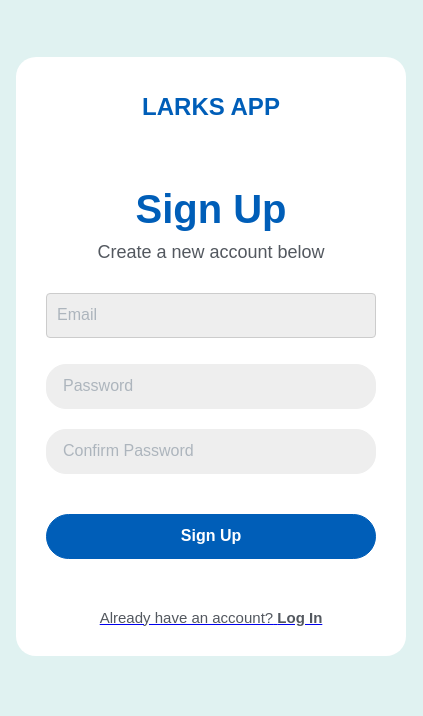
Test: SignUp Component › displays an error message when the user already exists
In the field with test id "signUpEmail": (211, 315) [46,292,376,338], type "existinguser@example.com"
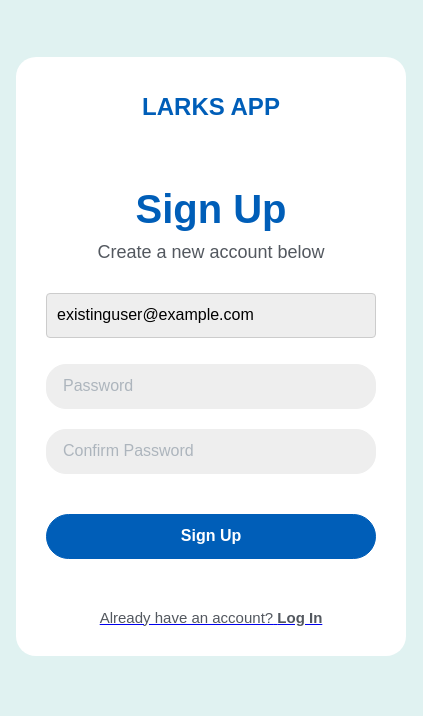
In the password field with test id "signUpPasswd": (211, 386) [46,364,376,408], type "SecurePass123!"
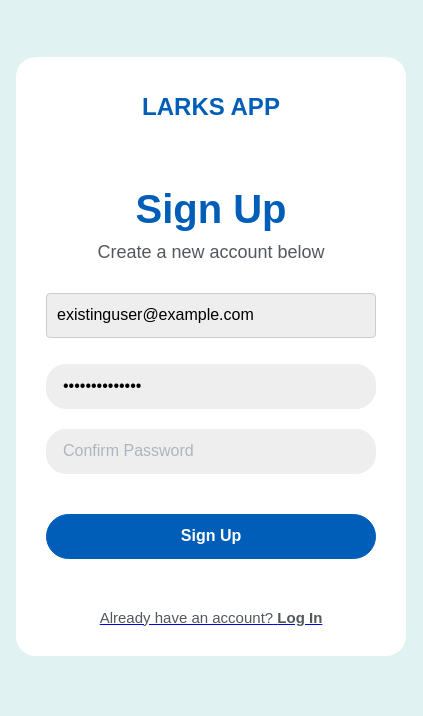
In the password field with test id "confirmSignUpPasswd": (211, 451) [46,428,376,474], type "SecurePass123!"
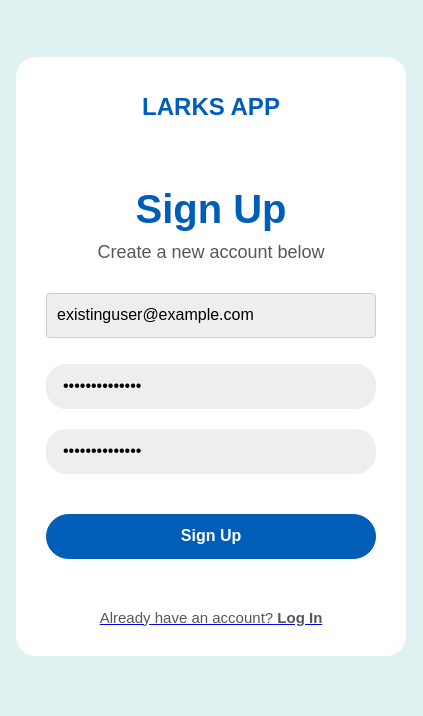
Click the button "Sign Up": (211, 536) [46,514,376,558]
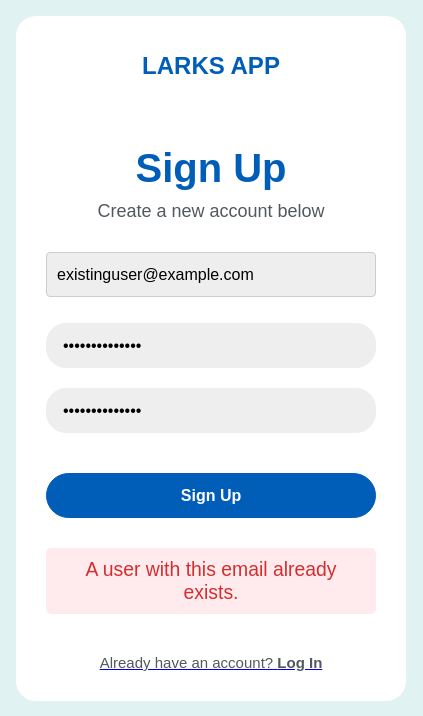
Expected: the text "A user with this email already exists." is shown, [46,548,376,614]
